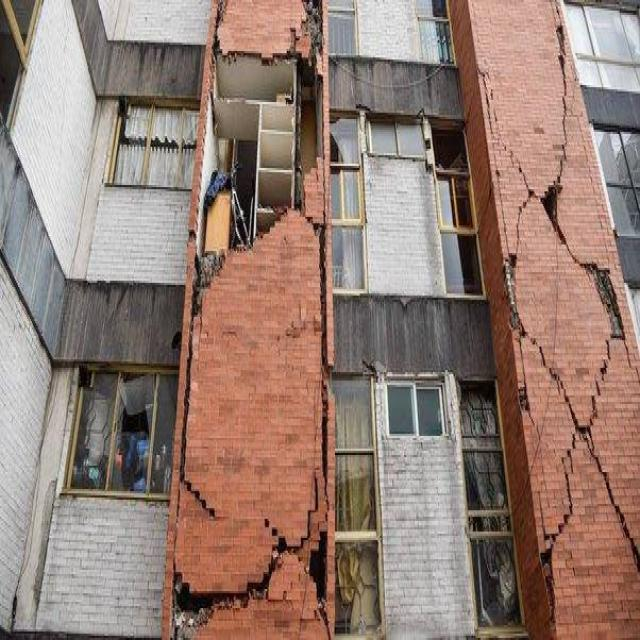damage: (184, 4, 336, 282), (168, 551, 287, 639), (582, 442, 640, 604), (173, 287, 208, 551), (310, 206, 338, 526), (534, 436, 586, 600), (514, 304, 580, 424), (292, 510, 344, 640), (584, 247, 640, 362), (478, 45, 522, 191), (583, 319, 622, 437), (558, 0, 576, 194), (499, 208, 541, 276), (542, 177, 562, 247)
